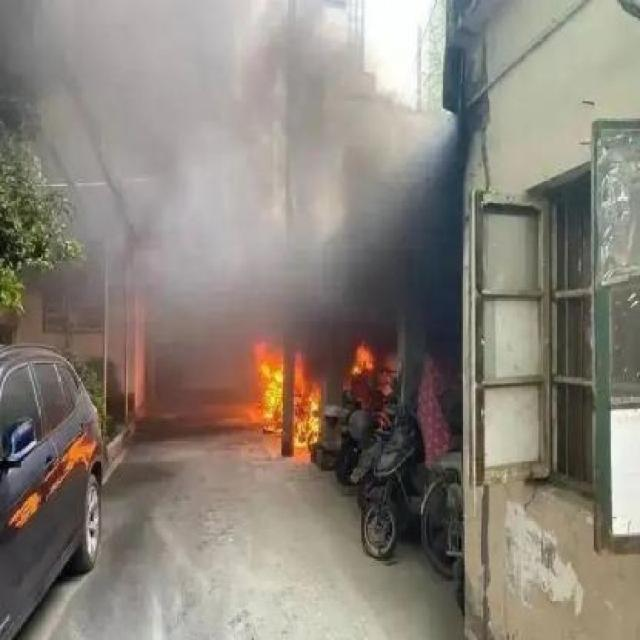Fire: (253, 344, 284, 432), (294, 365, 320, 450), (350, 340, 376, 377)
Smoke: (132, 22, 450, 340)
